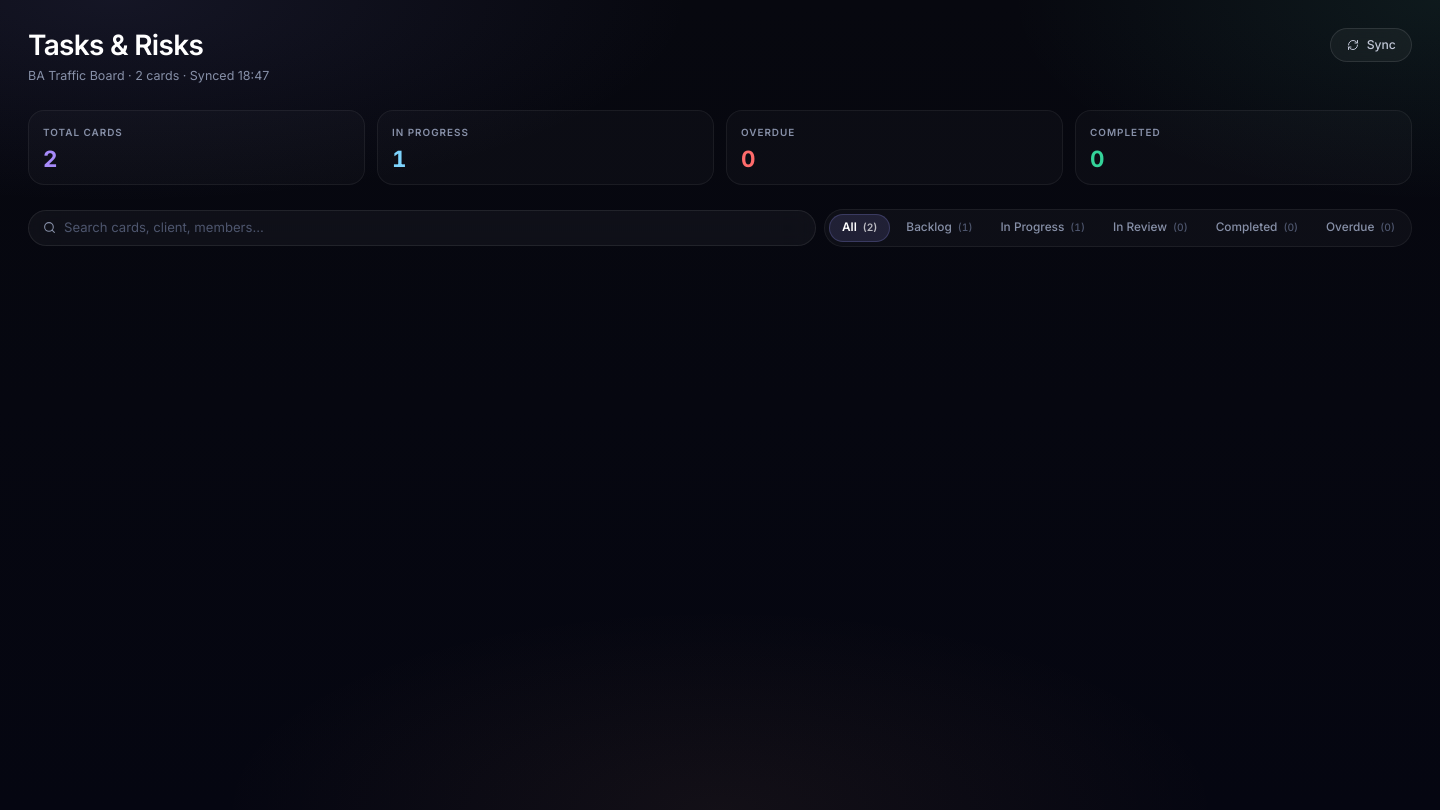
Test: Tasks – Filter tabs › filters to In Progress cards
This screenshot has width=1440, height=810.
Click the button with class "tab-item" showing "In Progress (1)".
click(1043, 228)  # box [988, 215, 1097, 241]
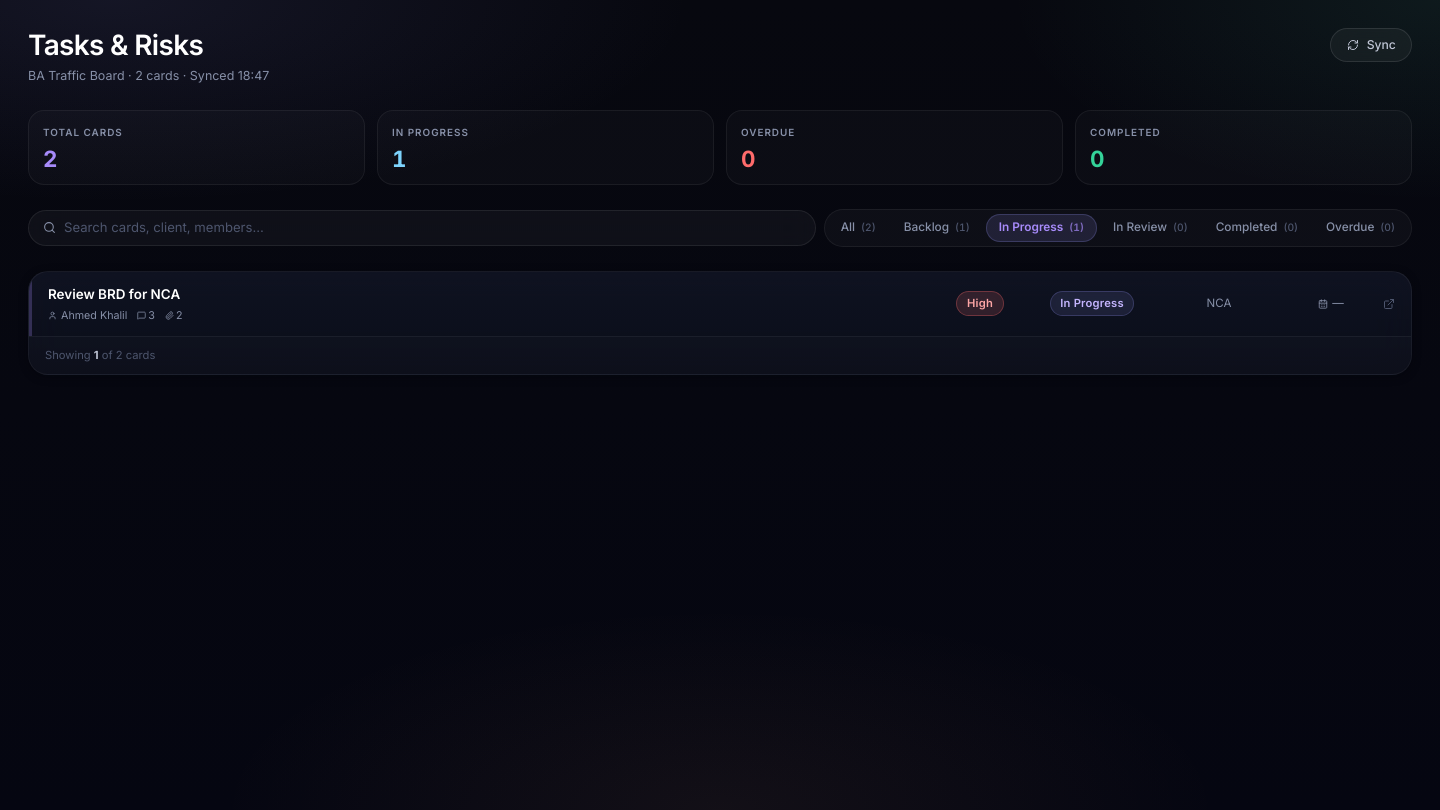
Result: the text "Review BRD for NCA" is shown at [48, 286, 180, 302]
